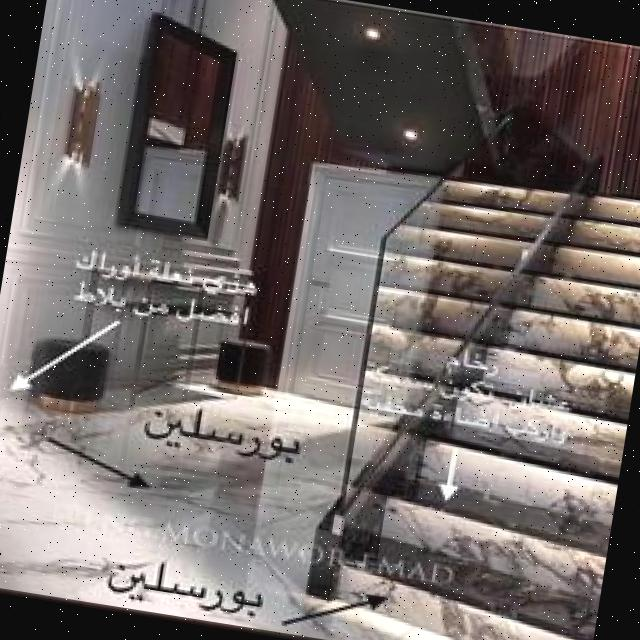stairs: (295, 148, 640, 640)
